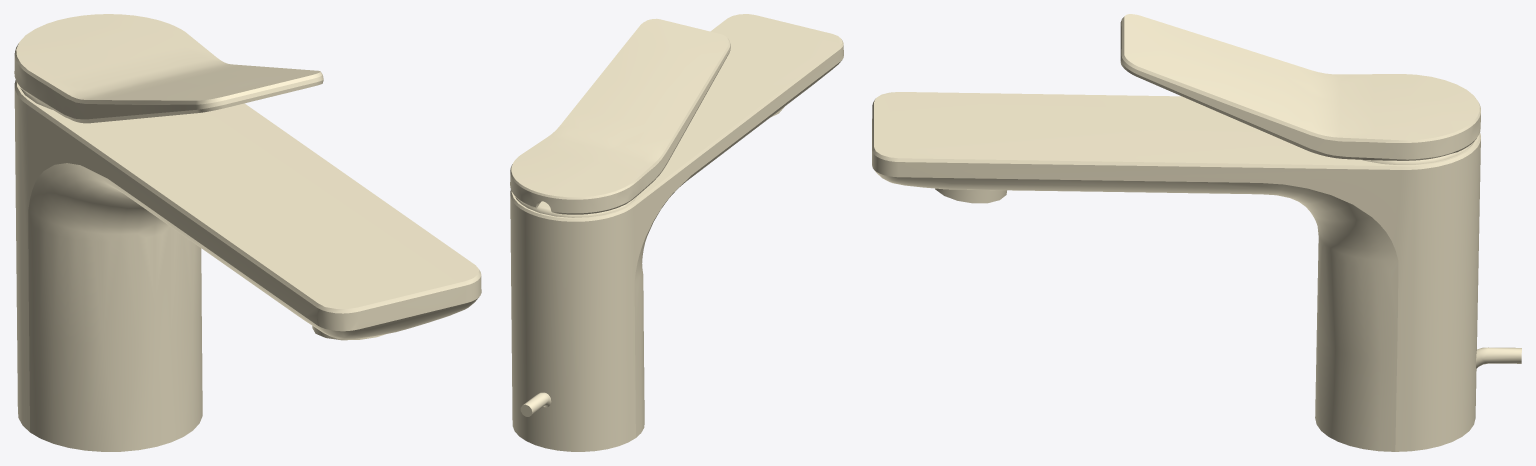
The picture shows the model from 3 angles, left to right: view 1: azimuth 30°, elevation 25°; view 2: azimuth 150°, elevation 25°; view 3: azimuth 270°, elevation 25°; orthographic projection. The views are drawn at different scales.
Parts seen in each view (by area): view 1: L_fdeae6de_0879_4853_8711_34a0d4e935b6_I5, L_a1148aaa_84d5_4d95_b440_838f23a0d012_I4; view 2: L_fdeae6de_0879_4853_8711_34a0d4e935b6_I5, L_a1148aaa_84d5_4d95_b440_838f23a0d012_I4, L_5095122a_4eaf_4164_8d06_55b332455c44_I3, L_242c2533_6809_4055_8021_e21e2bc8c005_I1; view 3: L_fdeae6de_0879_4853_8711_34a0d4e935b6_I5, L_a1148aaa_84d5_4d95_b440_838f23a0d012_I4, L_242c2533_6809_4055_8021_e21e2bc8c005_I1, L_38ccca43_db02_44fd_a178_109f803a8ab1_I2.
Part boxes in pixels (bbox=[...]): L_fdeae6de_0879_4853_8711_34a0d4e935b6_I5: bbox=[14, 80, 481, 451]; L_a1148aaa_84d5_4d95_b440_838f23a0d012_I4: bbox=[14, 14, 323, 123]; L_fdeae6de_0879_4853_8711_34a0d4e935b6_I5: bbox=[510, 14, 843, 451]; L_a1148aaa_84d5_4d95_b440_838f23a0d012_I4: bbox=[510, 18, 730, 214]; L_5095122a_4eaf_4164_8d06_55b332455c44_I3: bbox=[515, 196, 636, 217]; L_242c2533_6809_4055_8021_e21e2bc8c005_I1: bbox=[520, 392, 551, 416]; L_fdeae6de_0879_4853_8711_34a0d4e935b6_I5: bbox=[872, 92, 1480, 451]; L_a1148aaa_84d5_4d95_b440_838f23a0d012_I4: bbox=[1120, 14, 1480, 160]; L_242c2533_6809_4055_8021_e21e2bc8c005_I1: bbox=[1476, 347, 1521, 368]; L_38ccca43_db02_44fd_a178_109f803a8ab1_I2: bbox=[935, 188, 1006, 203].
Size of the model in its own units: 0.0485 by 0.1275 by 0.1964.
